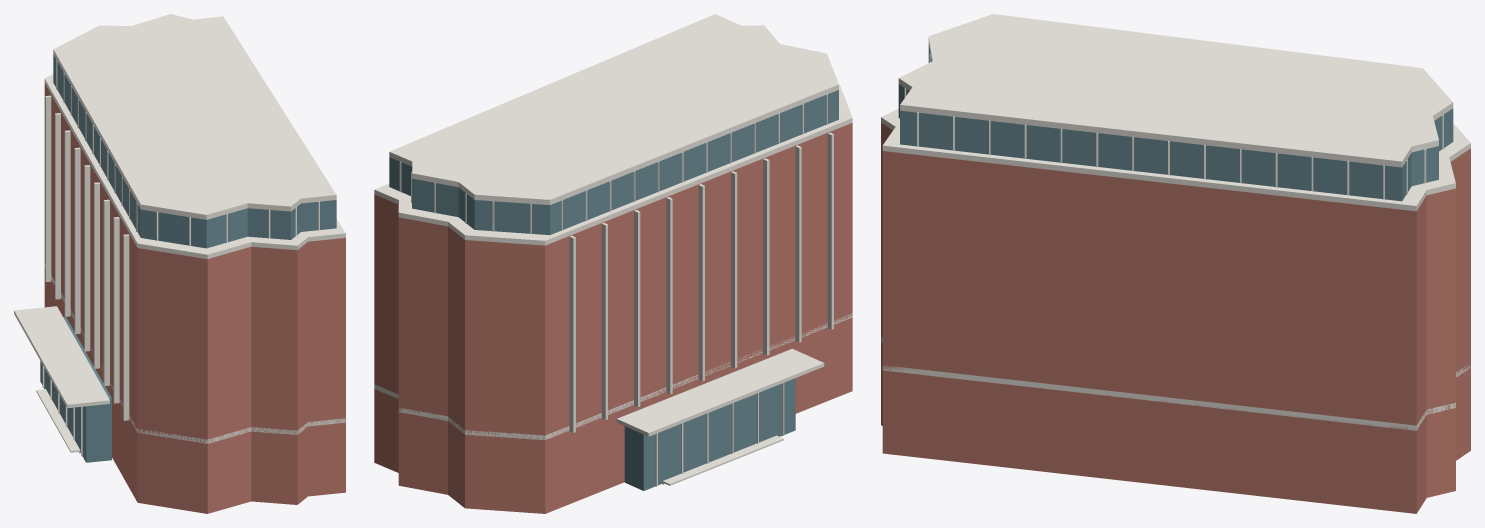
Rendered from chow.glb.
3 renders of one model, left to right at view 1: azimuth 30°, elevation 25°; view 2: azimuth 150°, elevation 25°; view 3: azimuth 270°, elevation 25°, orthographic. The views are drawn at different scales.
Parts seen in each view (by area): view 1: CHW_tower, CHW_roof, CHW_podium, CHW_crown, CHW_canopy, CHW_crown_band, CHW_atrium, CHW_fin_2, CHW_fin_7, CHW_fin_8, CHW_fin_0, CHW_fin_3 (+6 smaller); view 2: CHW_tower, CHW_roof, CHW_podium, CHW_crown, CHW_atrium, CHW_canopy, CHW_crown_band, CHW_band, CHW_fin_0, CHW_fin_6, CHW_fin_8, CHW_fin_3 (+6 smaller); view 3: CHW_tower, CHW_roof, CHW_podium, CHW_crown, CHW_crown_band, CHW_band.
Part boxes in pixels (bbox=[...]): CHW_tower: bbox=[44, 83, 345, 443]; CHW_roof: bbox=[53, 14, 336, 219]; CHW_podium: bbox=[44, 268, 345, 513]; CHW_crown: bbox=[53, 55, 336, 248]; CHW_canopy: bbox=[14, 306, 109, 408]; CHW_crown_band: bbox=[44, 74, 345, 258]; CHW_atrium: bbox=[40, 317, 111, 462]; CHW_fin_2: bbox=[64, 130, 70, 316]; CHW_fin_7: bbox=[113, 217, 119, 403]; CHW_fin_8: bbox=[123, 234, 129, 420]; CHW_fin_0: bbox=[45, 95, 51, 282]; CHW_fin_3: bbox=[74, 147, 80, 334]; CHW_tower: bbox=[374, 123, 852, 440]; CHW_roof: bbox=[389, 14, 838, 204]; CHW_podium: bbox=[374, 317, 852, 513]; CHW_crown: bbox=[389, 90, 838, 234]; CHW_atrium: bbox=[624, 378, 795, 490]; CHW_canopy: bbox=[616, 348, 824, 436]; CHW_crown_band: bbox=[374, 85, 852, 245]; CHW_band: bbox=[374, 313, 852, 440]; CHW_fin_0: bbox=[569, 235, 575, 432]; CHW_fin_6: bbox=[763, 158, 769, 355]; CHW_fin_8: bbox=[827, 132, 833, 329]; CHW_fin_3: bbox=[666, 197, 672, 394]; CHW_tower: bbox=[881, 122, 1470, 429]; CHW_roof: bbox=[898, 14, 1453, 167]; CHW_podium: bbox=[881, 342, 1470, 513]; CHW_crown: bbox=[898, 44, 1453, 201]; CHW_crown_band: bbox=[881, 108, 1470, 211]; CHW_band: bbox=[881, 337, 1470, 430].
Bounding box in the file's own units: 30.65 × 29.3 × 45.05.
